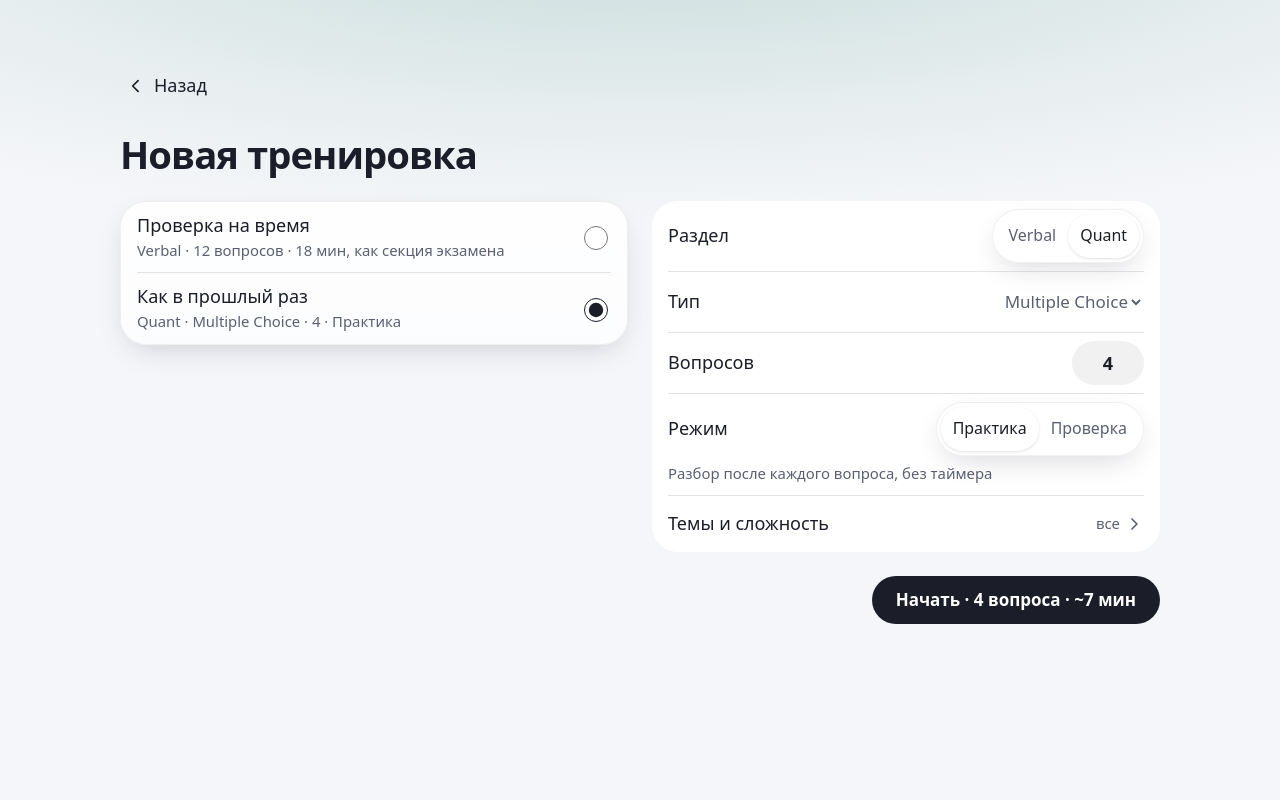
Test case: прошлый набор выбирается сразу, один тип отражается в полях
The width and height of the screenshot is (1280, 800).
Expected: the field labelled "Вопросов" is shown, [1072,341,1144,385]
Expected: the radio button labelled "Как в прошлый раз Quant · Multiple Choice · 4 · Практика" is checked, [584,298,608,322]
Step 1. Click the radio button labelled "Проверка на время" → (596, 238), box [584,226,608,250]
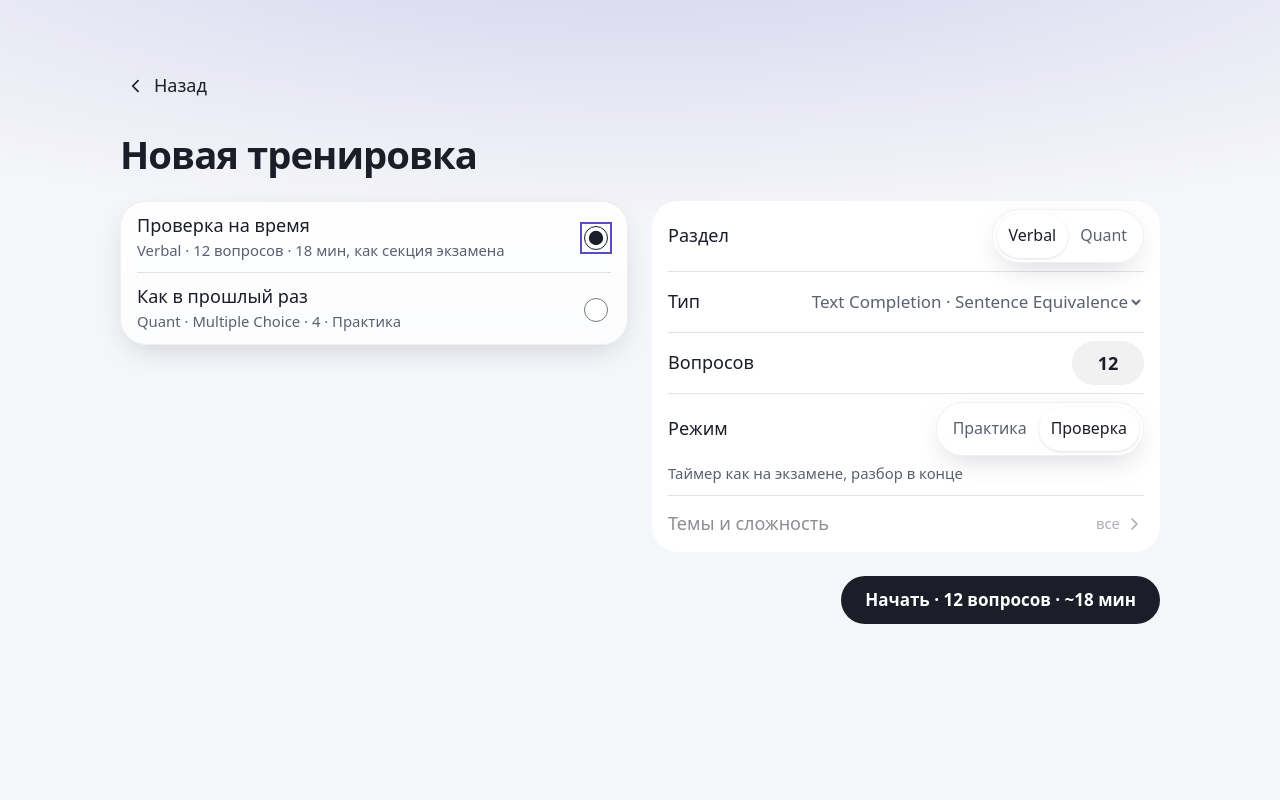
Step 2. Click the radio button labelled "Как в прошлый раз Quant · Multiple Choice · 4 · Практика" → (596, 310), box [584,298,608,322]
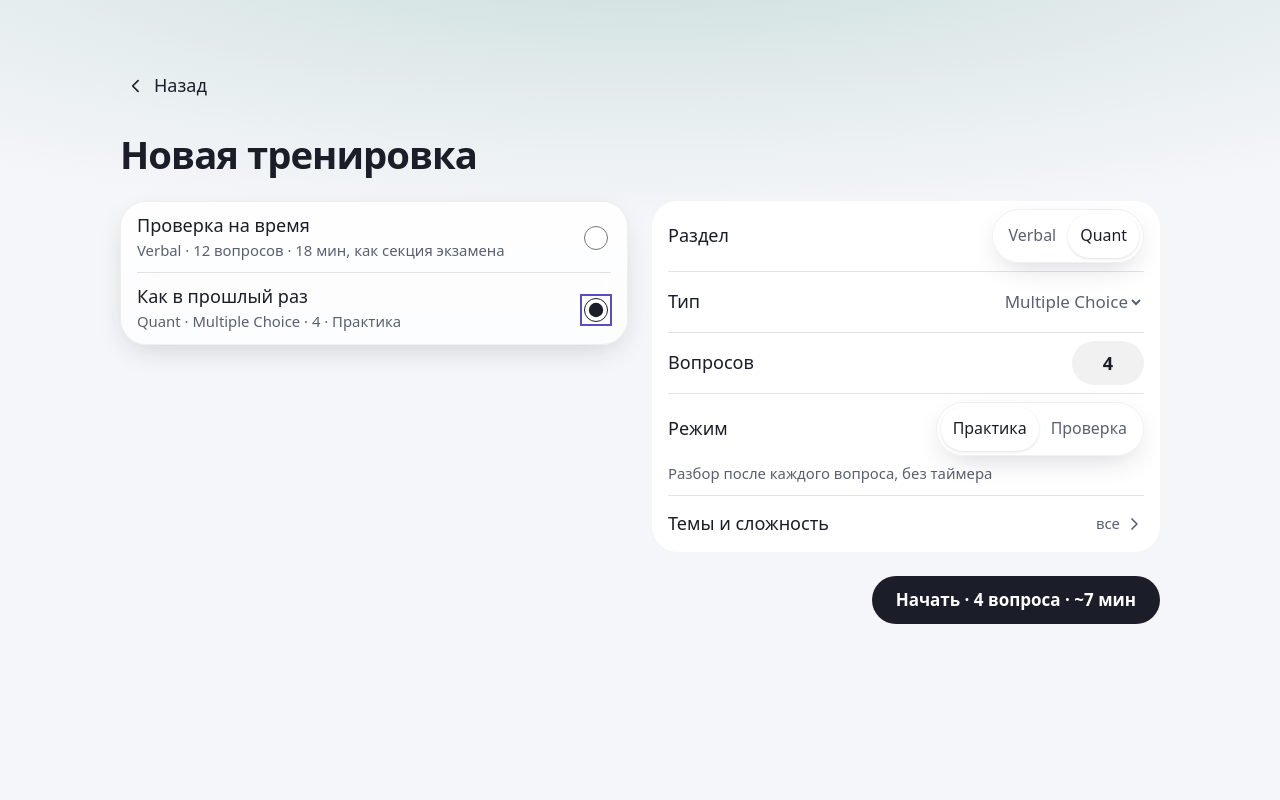
Expected: the field labelled "Вопросов" holds "4", [1072,341,1144,385]
Step 3. Click the button "Quant" → (1104, 236), box [1068,214,1139,258]
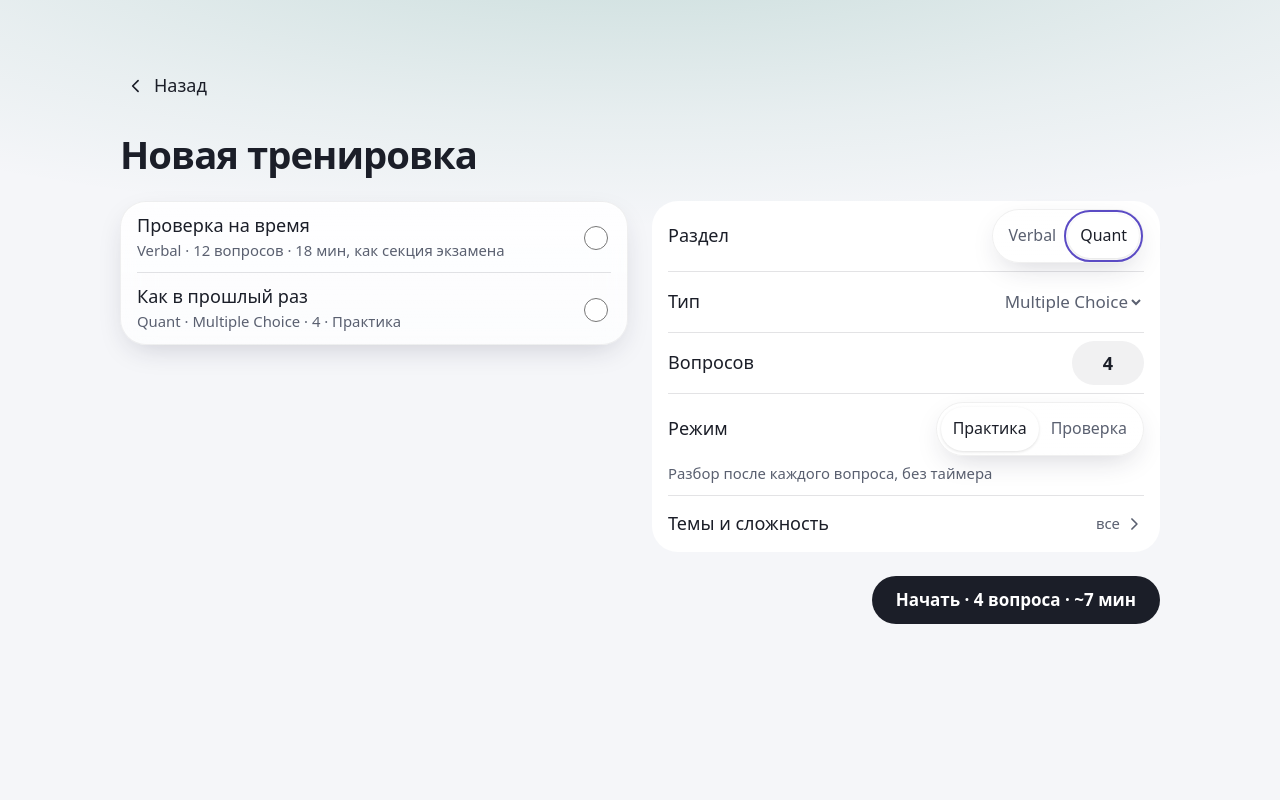
Step 4. Select "Multiple Choice" in the dropdown labelled "Тип" → (1034, 302), box [923,280,1144,324]
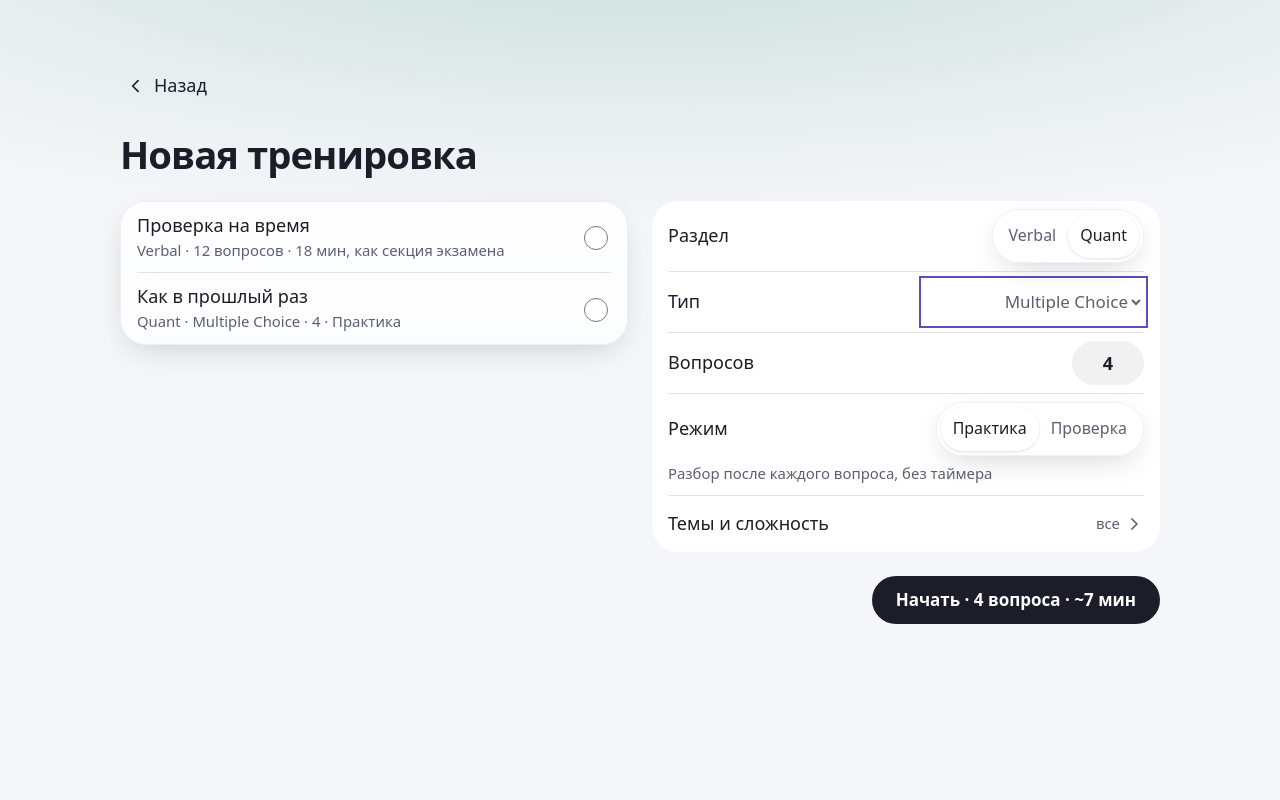
Step 5. Click the button "Практика" → (990, 429), box [941,407,1039,451]
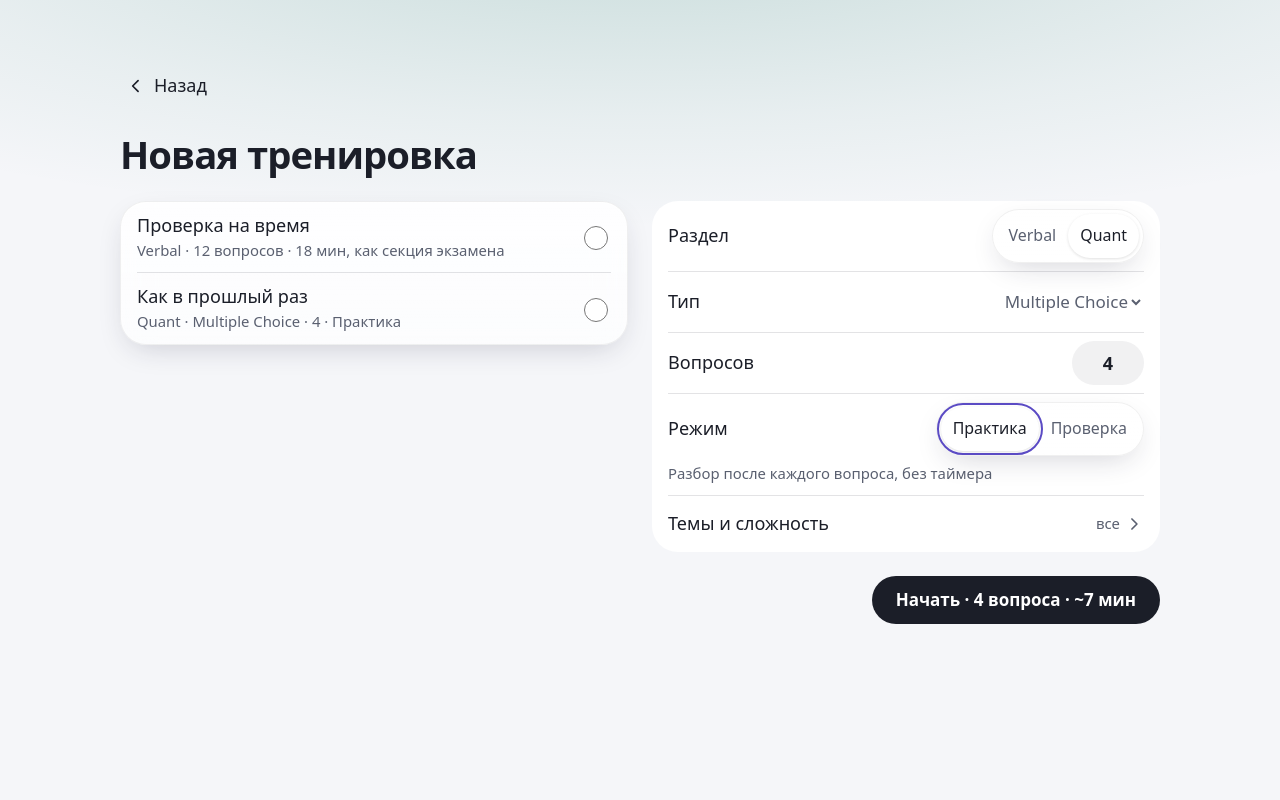
Step 6. Click the button "Назад" → (166, 86), box [120,64,213,108]
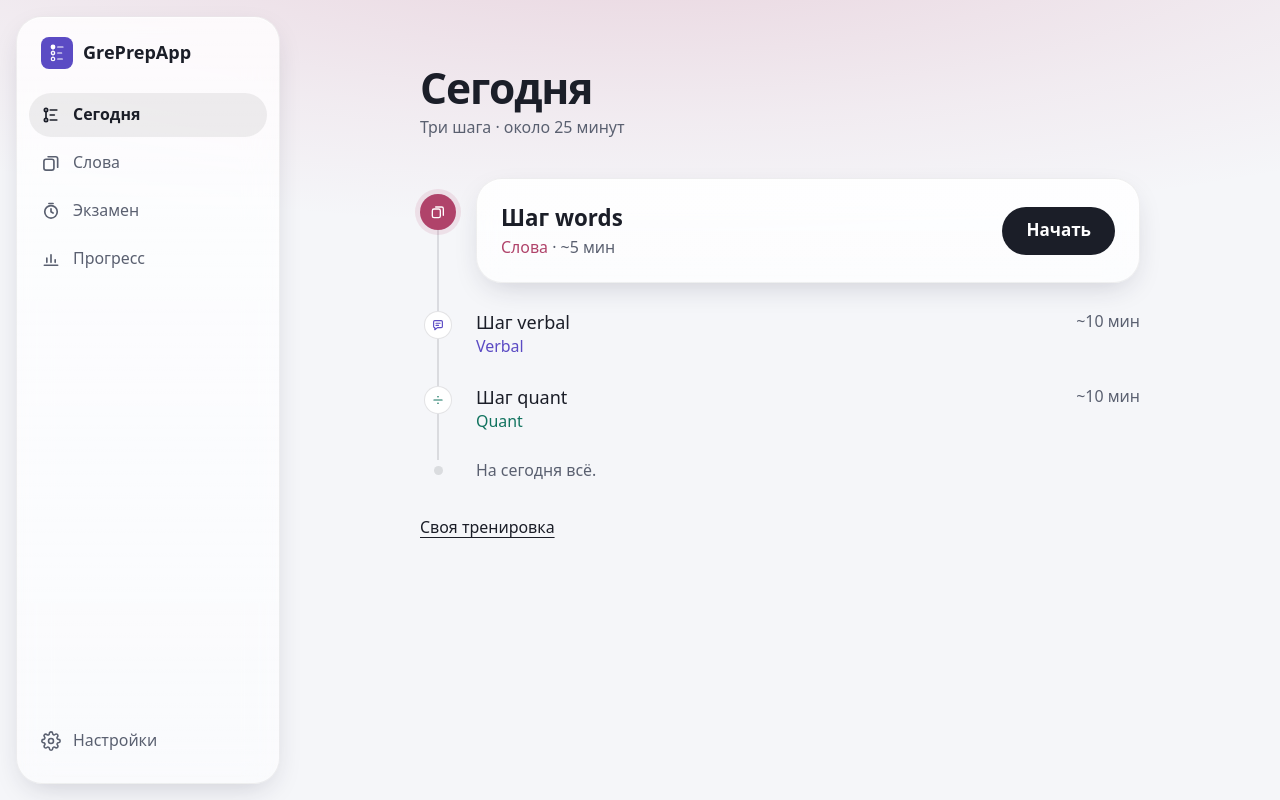
Expected: the heading "Сегодня" is shown, [420,59,592,116]
